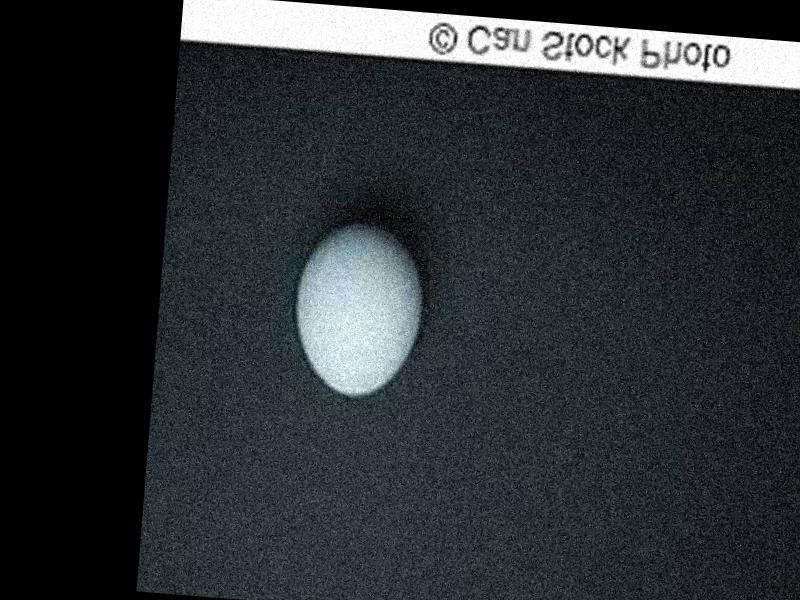Eggs: (286, 219, 427, 401)
